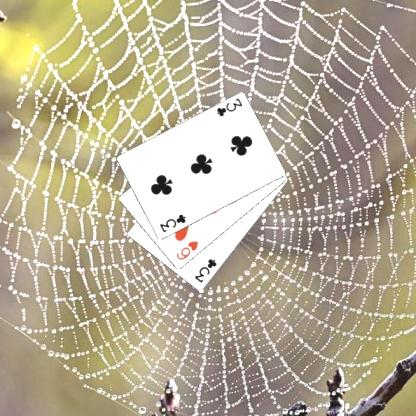3C: (192, 256, 218, 284), (156, 211, 187, 234), (214, 95, 244, 118)
6H: (173, 238, 200, 261)
